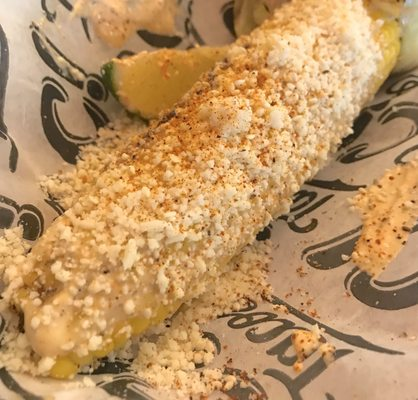burger: (334, 64, 418, 164)
